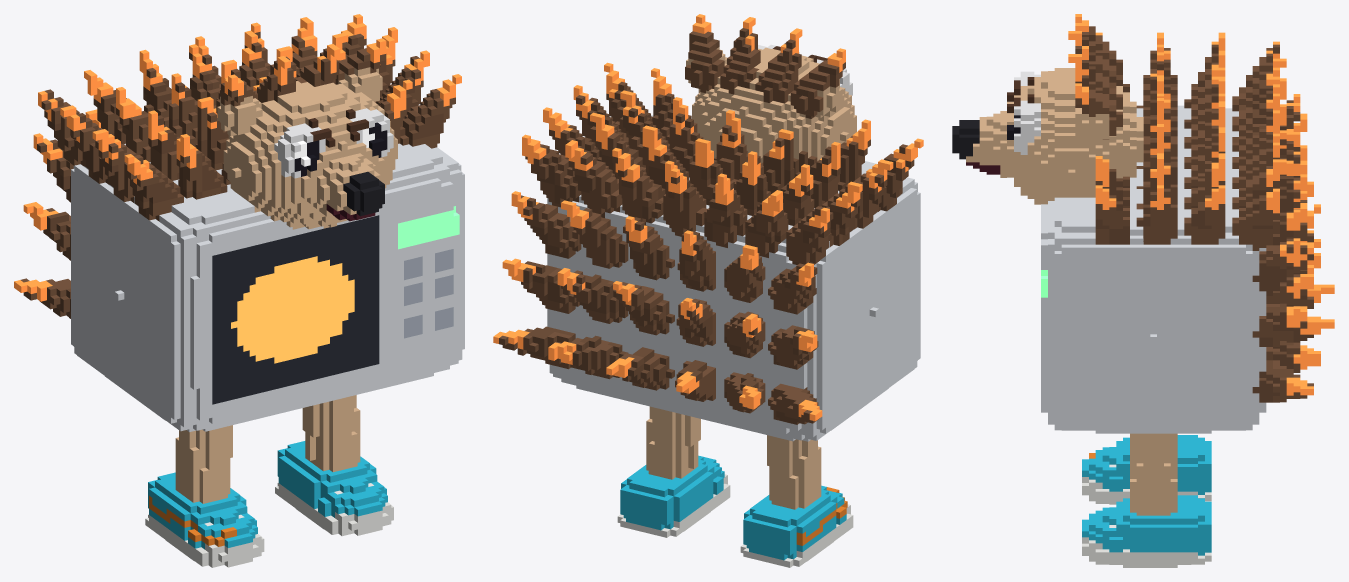
Rendered from microondino_riccio.glb.
3 views of the same model, side by side, from view 1: azimuth 30°, elevation 25°; view 2: azimuth 150°, elevation 25°; view 3: azimuth 270°, elevation 25° (orthographic). The views are drawn at different scales.
Visible parts, largest first — view 1: SM_Brainrot_microondino_riccio; view 2: SM_Brainrot_microondino_riccio; view 3: SM_Brainrot_microondino_riccio.
Part boxes in pixels (x1=…): SM_Brainrot_microondino_riccio: x1=14, y1=14, x2=464, y2=567; SM_Brainrot_microondino_riccio: x1=493, y1=14, x2=923, y2=567; SM_Brainrot_microondino_riccio: x1=952, y1=14, x2=1334, y2=567.
Bounding box in the file's own units: 3.3 × 4.68 × 3.36.
1 material, 1 textured.
